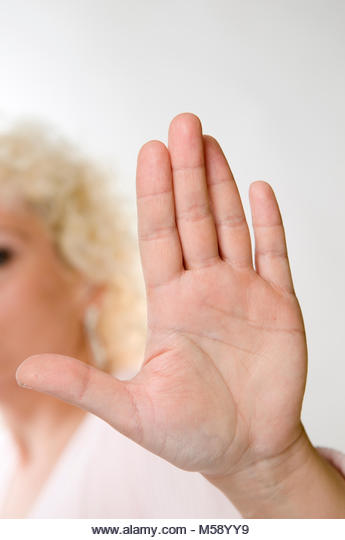non-diseased: (14, 114, 331, 464)
